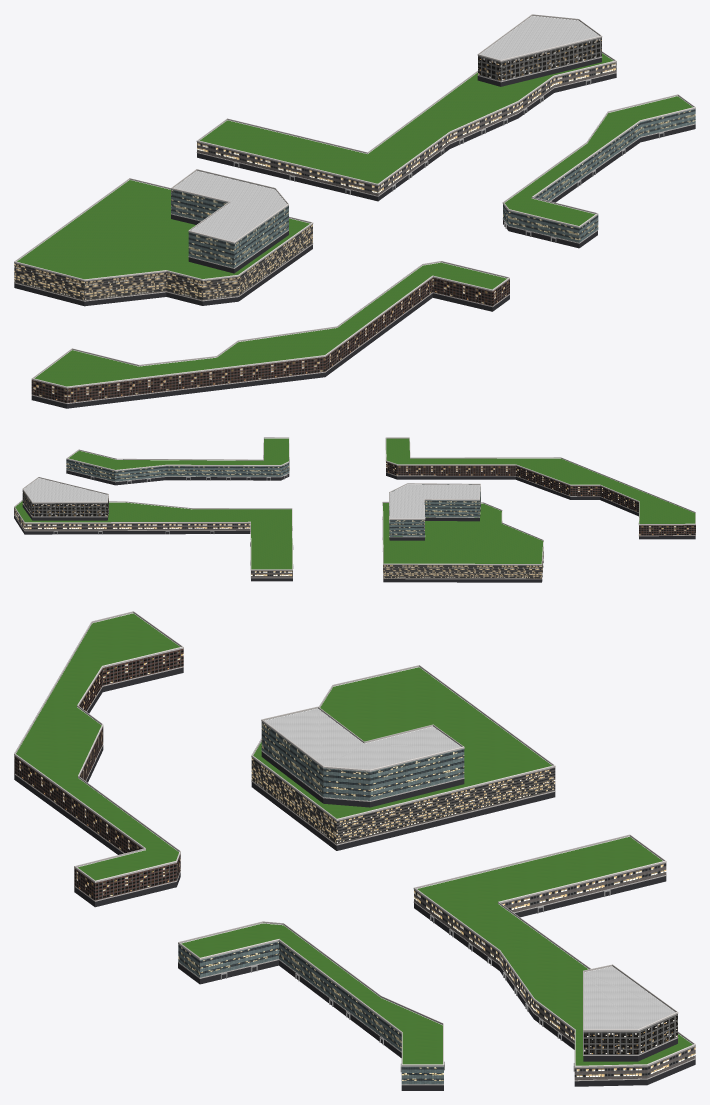
File: buildingsa.glb
3 views of the same model, one above another, from view 1: azimuth 30°, elevation 25°; view 2: azimuth 150°, elevation 25°; view 3: azimuth 270°, elevation 25° (orthographic). The views are drawn at different scales.
Visible parts, largest first — view 1: buildings; view 2: buildings; view 3: buildings.
Part boxes in pixels (box(x1,y1,x2,y2)): buildings: box(14, 14, 695, 408); buildings: box(14, 437, 695, 582); buildings: box(14, 611, 695, 1090).
Bounding box in the file's own units: 519 × 36.01 × 329.
Materials: 11 (7 with a texture image).
